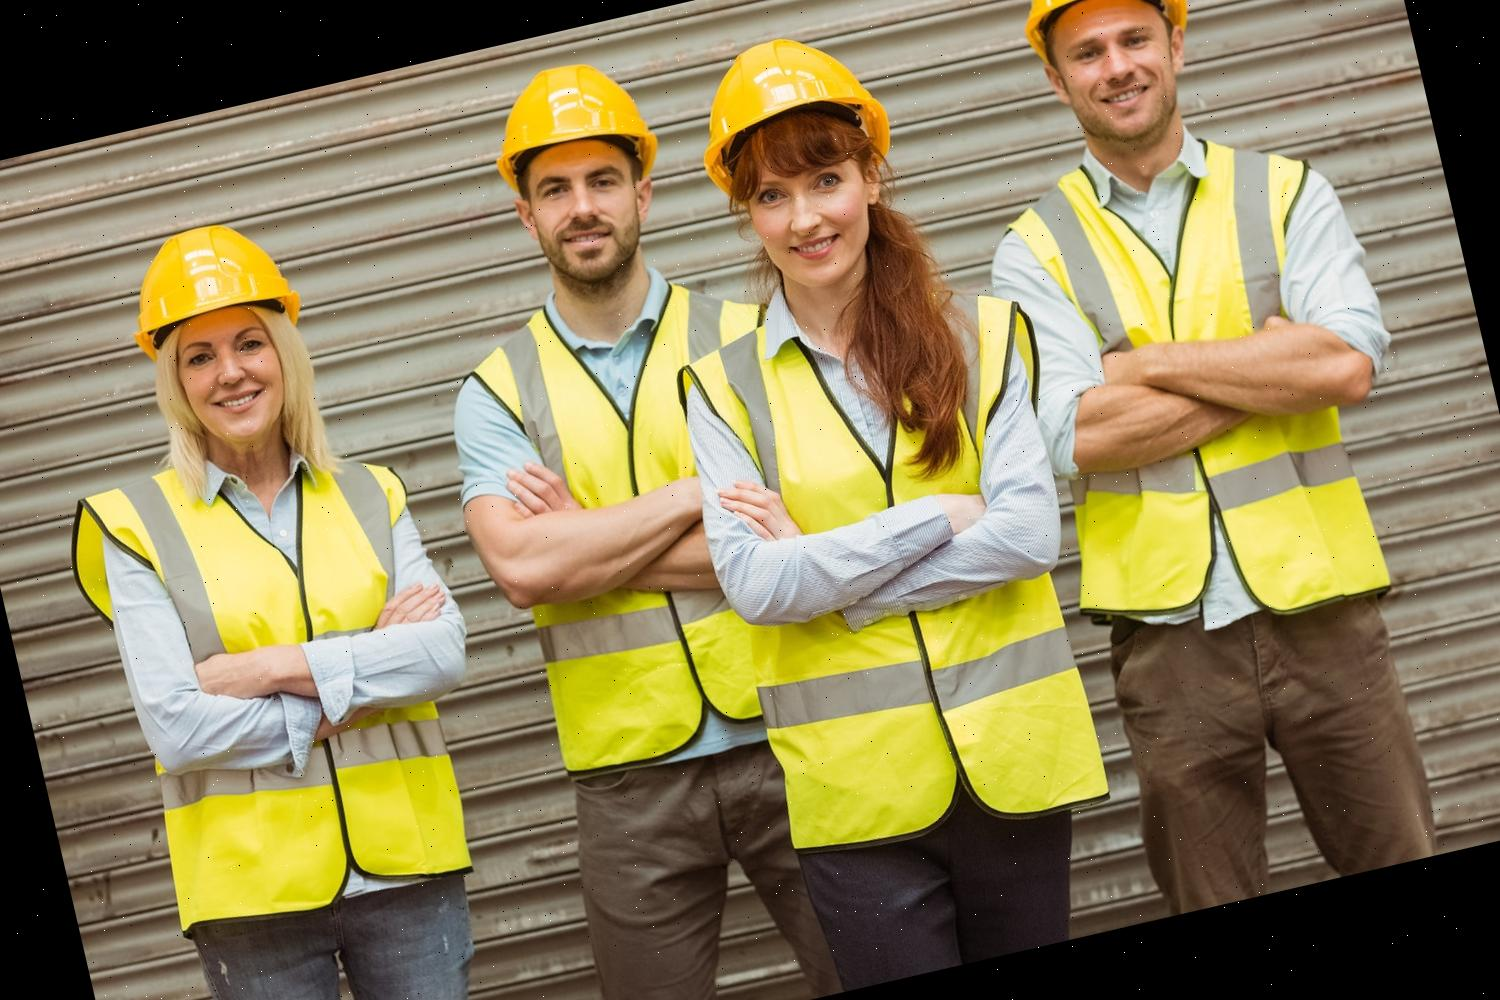helmet: (672, 17, 898, 177), (108, 208, 310, 360), (475, 40, 672, 187), (1000, 0, 1195, 61)
wear: (673, 276, 1110, 857), (430, 276, 847, 792), (996, 132, 1408, 652), (81, 450, 477, 943)
